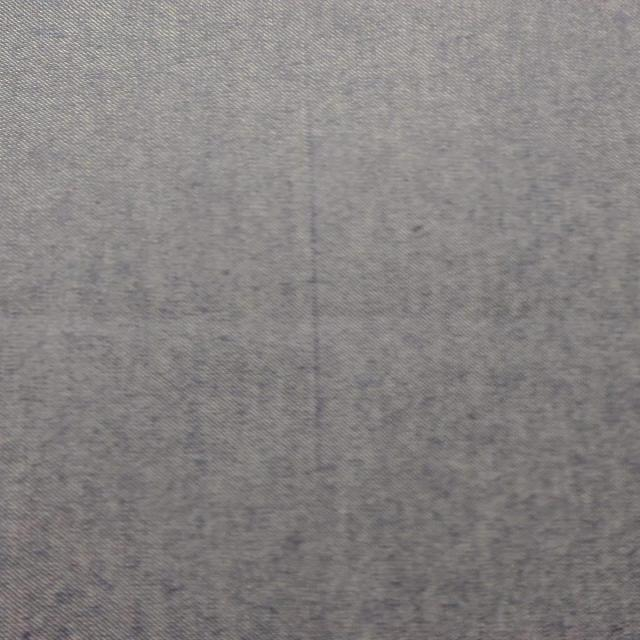Line: (302, 29, 324, 477)
